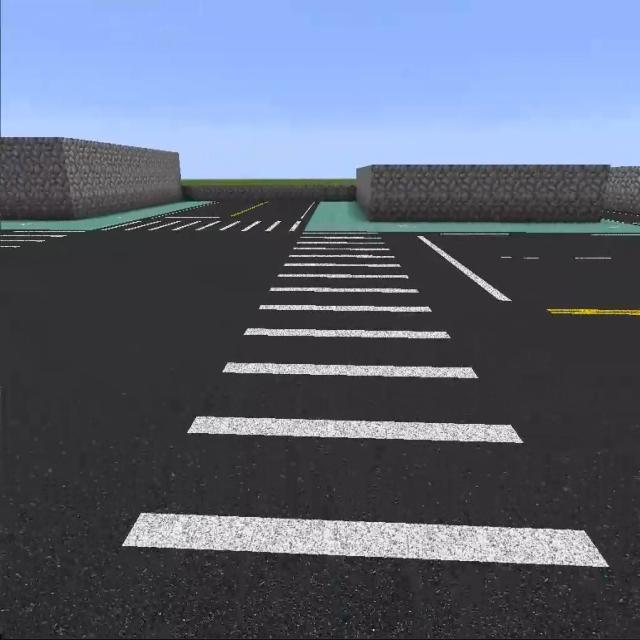crosswalk: (70, 231, 634, 633), (105, 217, 308, 240), (2, 231, 71, 265)
road: (8, 234, 290, 637), (403, 232, 636, 569), (154, 201, 316, 219)
sidewalk: (304, 202, 639, 237), (0, 201, 210, 233)
